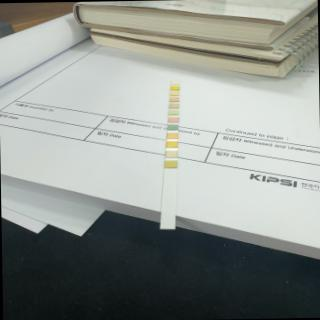mark: (165, 150, 177, 158), (164, 161, 177, 168), (166, 140, 177, 148), (166, 132, 177, 138), (168, 124, 178, 130), (168, 116, 178, 122), (170, 96, 178, 102), (169, 110, 178, 115), (168, 104, 179, 108), (170, 91, 178, 95), (170, 86, 178, 90), (170, 80, 178, 84)
